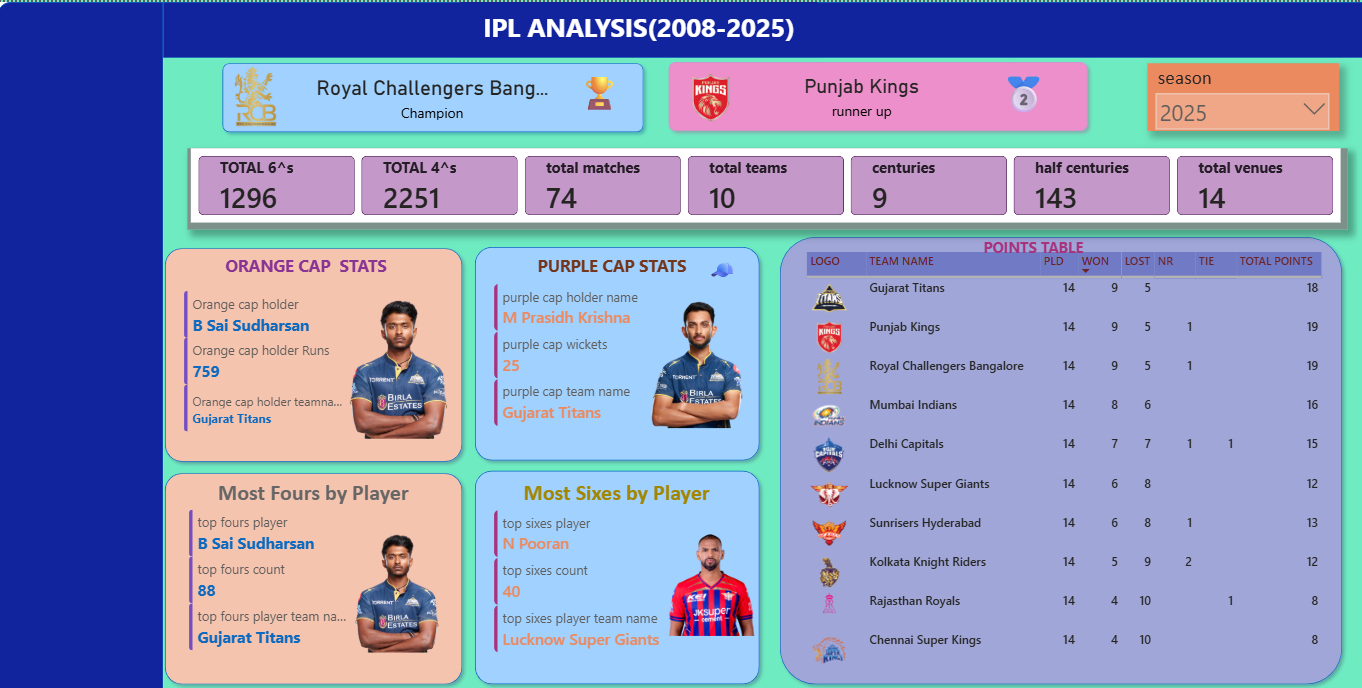

Layout of this report page (visuals, bound fields, positions):
{"tool":"powerbi","page":{"name":"Page 1","canvas":[2000,1000],"ordinal":0},"visuals":[{"type":"shape","box":[1138.3,331.7,835,668.3],"z":0},{"type":"shape","box":[695,346.7,431.7,328.3],"z":1000},{"type":"shape","box":[245,348.3,450,328.3],"z":2000},{"type":"shape","box":[978.3,78.3,626.7,118.3],"z":3000},{"type":"shape","box":[228.3,0,1772,81],"z":4000},{"type":"shape","box":[328.3,80,630,118.3],"z":5000},{"type":"shape","box":[10.2,0,240.7,1064.4],"z":6000},{"type":"textbox","box":[682.8,0,520.3,79.7],"z":7000},{"type":"slicer","fields":{"Values":["ipl_matches_data.season"]},"box":[1681.7,88.3,278.3,98.3],"z":8000},{"type":"card","fields":{"Values":["ipl_matches_data.Season Winner"]},"box":[438.3,95,410,81.7],"z":9000},{"type":"cardVisual","fields":{"Data":["ipl_matches_data.season winner logo"]},"box":[281.7,0,208.3,183.3],"z":10000},{"type":"card","fields":{"Values":["ipl_matches_data.runner up"]},"box":[1053.3,88.3,426.7,88.3],"z":11000},{"type":"cardVisual","fields":{"Data":["ipl_matches_data.run(logo)"]},"box":[958.3,0,180,196.7],"z":12000},{"type":"cardVisual","fields":{"Data":["ipl_matches_data.TOTAL 6^s","ipl_matches_data.TOTAL 4^s","ipl_matches_data.total matches","ipl_matches_data.total teams","ipl_matches_data.centuries","ipl_matches_data.half centuries","ipl_matches_data.total venues"]},"box":[286.7,213.3,1686.7,118.3],"z":13000},{"type":"cardVisual","fields":{"Data":["ipl_matches_data.Orange cap holder","ipl_matches_data.Orange cap holder Runs","ipl_matches_data.Orange cap holder teamname"]},"box":[265,403.3,286.7,240],"z":14000},{"type":"textbox","box":[273.3,361.7,373.3,45],"z":15000},{"type":"cardVisual","fields":{"Data":["ipl_matches_data.Orange cap holder image"]},"box":[360,191.7,471.7,463.3],"z":16000},{"type":"cardVisual","fields":{"Data":["ipl_matches_data.purple cap holder name","ipl_matches_data.purple cap wickets","ipl_matches_data.purple cap team name"]},"box":[716.7,393.3,285,243.3],"z":17000},{"type":"textbox","box":[490,361.7,826.7,83.3],"z":18000},{"type":"cardVisual","fields":{"Data":["ipl_matches_data.purple cap holder IMAGE"]},"box":[795,213.3,471.7,426.7],"z":19000},{"type":"textbox","box":[1036.7,361.7,336.7,91.7],"z":20000},{"type":"textbox","box":[848.3,98.3,63.3,105],"z":21000},{"type":"textbox","box":[1460,95,103.3,108.3],"z":22000},{"type":"shape","box":[245,675,450,325],"z":23000},{"type":"cardVisual","fields":{"Data":["ipl_matches_data.top fours player","ipl_matches_data.top fours count","ipl_matches_data.top fours player team name"]},"box":[273.3,721.7,286.7,240],"z":24000},{"type":"shape","box":[695,671.7,431.7,328.3],"z":25000},{"type":"cardVisual","fields":{"Data":["ipl_matches_data.top fours player image"]},"box":[360,565,466.7,398.3],"z":26000},{"type":"cardVisual","fields":{"Data":["ipl_matches_data.top sixes player","ipl_matches_data.top sixes count","ipl_matches_data.top sixes player team name"]},"box":[716.7,721.7,320,243.3],"z":27000},{"type":"cardVisual","fields":{"Data":["ipl_matches_data.top sixes player image"]},"box":[873.3,588.3,348.3,350],"z":28000},{"type":"textbox","box":[273.3,688.3,395,53.3],"z":29000},{"type":"textbox","box":[770,688.3,401.7,53.3],"z":30000},{"type":"tableEx","fields":{"Values":["teams_data.image_url","teams_data.team_name","ipl_matches_data.matches played","ipl_matches_data.matches win","ipl_matches_data.matcheslost","ipl_matches_data.no result","ipl_matches_data.tie matches","ipl_matches_data.total points"]},"box":[1186.7,363.3,751.7,636.7],"z":31000},{"type":"textbox","box":[1438.3,331.7,166.7,53.3],"z":31001}]}

Visuals, with their boxes in screenshot pixels (x1, y1, x2, y2), scaled from the page's 2000x1000 canvas onto the 1362x688 screenshot:
shape: select_region(775, 228, 1344, 687)
shape: select_region(473, 239, 767, 464)
shape: select_region(167, 240, 473, 466)
shape: select_region(666, 54, 1093, 135)
shape: select_region(155, 0, 1361, 56)
shape: select_region(224, 55, 653, 136)
shape: select_region(7, 0, 171, 687)
textbox: select_region(465, 0, 819, 55)
slicer - ipl_matches_data.season: select_region(1145, 61, 1335, 128)
card - ipl_matches_data.Season Winner: select_region(298, 65, 578, 122)
cardVisual - ipl_matches_data.season winner logo: select_region(192, 0, 334, 126)
card - ipl_matches_data.runner up: select_region(717, 61, 1008, 122)
cardVisual - ipl_matches_data.run(logo): select_region(653, 0, 775, 135)
cardVisual - ipl_matches_data.TOTAL 6^s x ipl_matches_data.TOTAL 4^s: select_region(195, 147, 1344, 228)
cardVisual - ipl_matches_data.Orange cap holder x ipl_matches_data.Orange cap holder Runs: select_region(180, 277, 376, 443)
textbox: select_region(186, 249, 440, 280)
cardVisual - ipl_matches_data.Orange cap holder image: select_region(245, 132, 566, 451)
cardVisual - ipl_matches_data.purple cap holder name x ipl_matches_data.purple cap wickets: select_region(488, 271, 682, 438)
textbox: select_region(334, 249, 897, 306)
cardVisual - ipl_matches_data.purple cap holder IMAGE: select_region(541, 147, 863, 440)
textbox: select_region(706, 249, 935, 312)
textbox: select_region(578, 68, 621, 140)
textbox: select_region(994, 65, 1065, 140)
shape: select_region(167, 464, 473, 687)
cardVisual - ipl_matches_data.top fours player x ipl_matches_data.top fours count: select_region(186, 497, 381, 662)
shape: select_region(473, 462, 767, 687)
cardVisual - ipl_matches_data.top fours player image: select_region(245, 389, 563, 663)
cardVisual - ipl_matches_data.top sixes player x ipl_matches_data.top sixes count: select_region(488, 497, 706, 664)
cardVisual - ipl_matches_data.top sixes player image: select_region(595, 405, 832, 646)
textbox: select_region(186, 474, 455, 510)
textbox: select_region(524, 474, 798, 510)
tableEx - teams_data.image_url x teams_data.team_name: select_region(808, 250, 1320, 687)
textbox: select_region(979, 228, 1093, 265)
